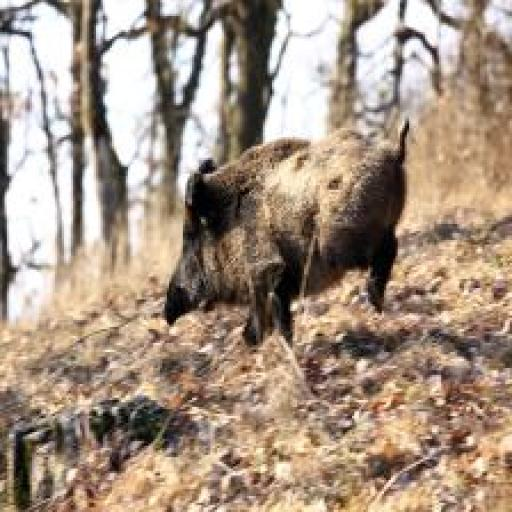Pig: (162, 114, 409, 348)
